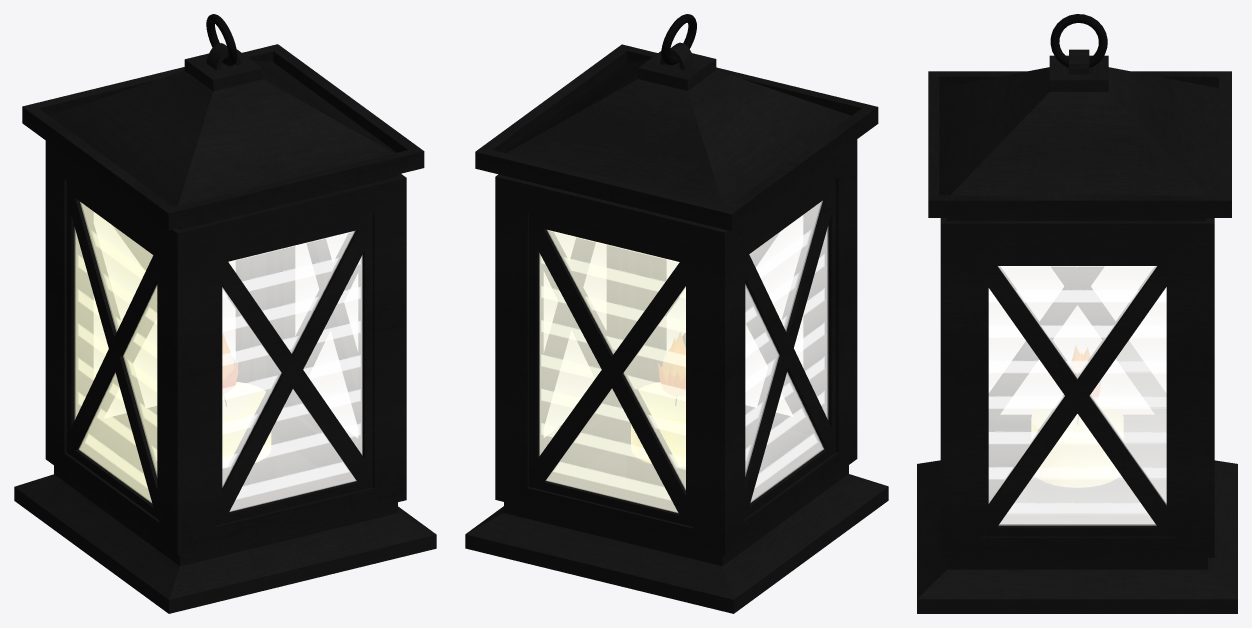
The model's file is lucerna_kovana.glb.
3 views of the same model, side by side, from view 1: azimuth 30°, elevation 25°; view 2: azimuth 150°, elevation 25°; view 3: azimuth 270°, elevation 25° (orthographic). The views are drawn at different scales.
Visible parts, largest first — view 1: lucerna_kovana, noc; view 2: lucerna_kovana, noc; view 3: lucerna_kovana, noc.
Part boxes in pixels (x1,y1,x2,y2): lucerna_kovana: (14, 14, 436, 613); noc: (74, 202, 362, 511); lucerna_kovana: (465, 14, 888, 613); noc: (539, 200, 828, 512); lucerna_kovana: (917, 14, 1237, 613); noc: (988, 266, 1166, 525).
Size of the model in its own units: 0.1761 by 0.32 by 0.1761.
Materials: 10 (7 with a texture image).
